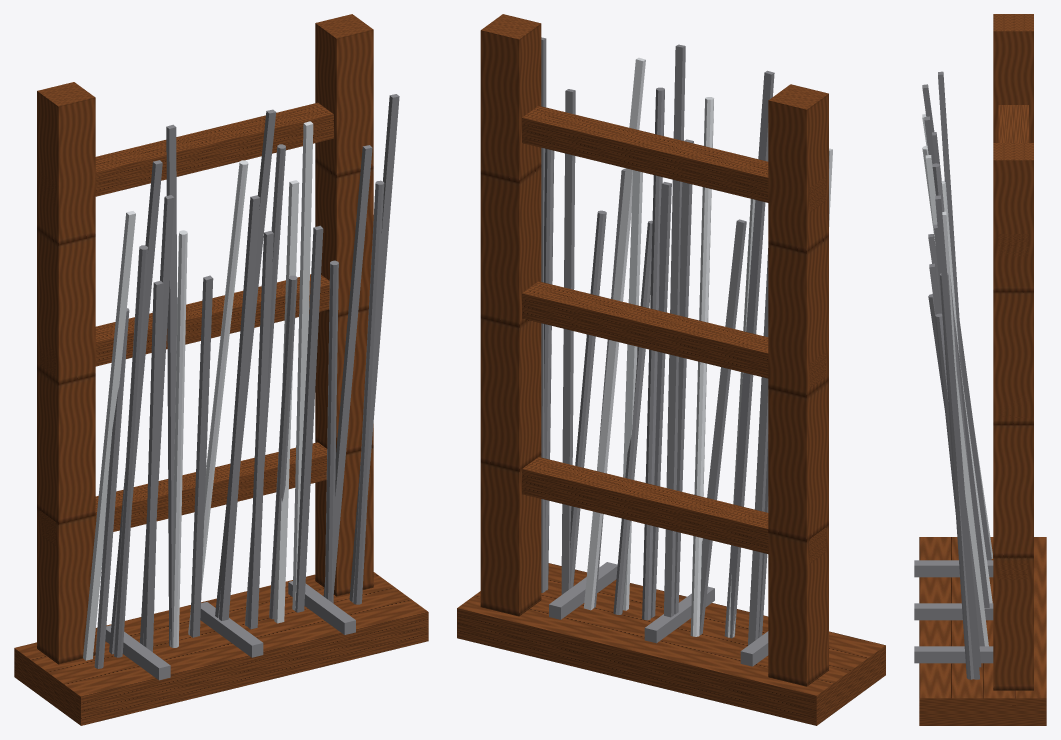
File: iron-bar-stock-rack-2-4-m.glb
3 renders of one model, left to right at view 1: azimuth 30°, elevation 25°; view 2: azimuth 150°, elevation 25°; view 3: azimuth 270°, elevation 25°, orthographic. The views are drawn at different scales.
Visible parts, largest first — view 1: blacksmith-forge-and-armoury-bar-stock-rack; view 2: blacksmith-forge-and-armoury-bar-stock-rack; view 3: blacksmith-forge-and-armoury-bar-stock-rack.
Boxes of the visible parts, left/top/right/bottom form: blacksmith-forge-and-armoury-bar-stock-rack: left=14, top=14, right=428, bottom=725; blacksmith-forge-and-armoury-bar-stock-rack: left=457, top=14, right=885, bottom=725; blacksmith-forge-and-armoury-bar-stock-rack: left=914, top=14, right=1046, bottom=725.
Bounding box in the file's own units: 1.5 × 2.42 × 0.5199.
Materials: 3 (1 with a texture image).
